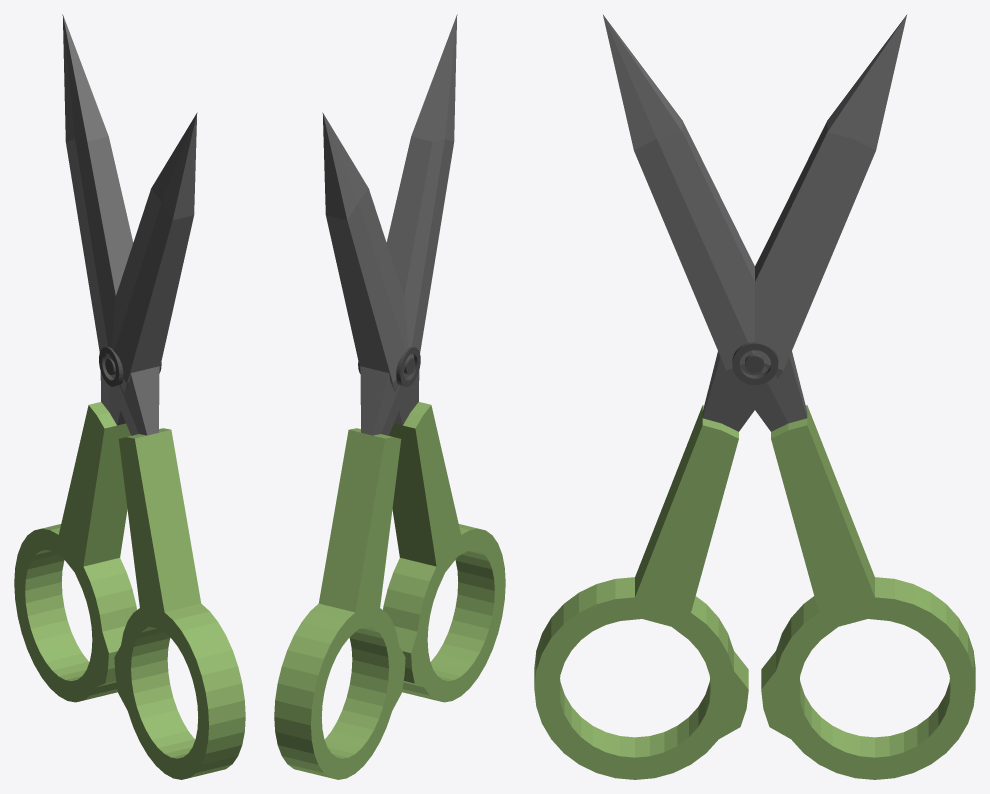
File: scissor-BID7N38m.glb
3 views of the same model, side by side, from view 1: azimuth 30°, elevation 25°; view 2: azimuth 150°, elevation 25°; view 3: azimuth 270°, elevation 25° (orthographic). The views are drawn at different scales.
Visible parts, largest first — view 1: scissor; view 2: scissor; view 3: scissor.
Part boxes in pixels (<box>): scissor: <box>14,14,245,779</box>; scissor: <box>274,14,505,779</box>; scissor: <box>534,15,975,779</box>.
Bounding box in the file's own units: 0.1189 × 1.74 × 0.92.
